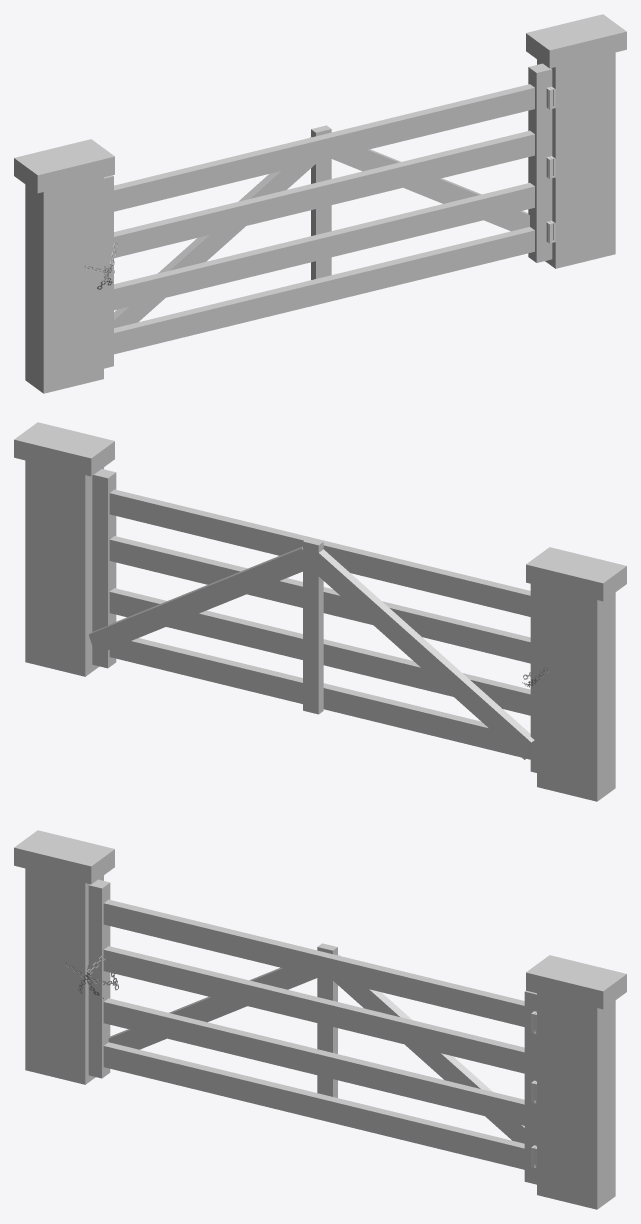
Rendered from Fence5.fbx.
The picture shows the model from 3 angles, top to bottom: view 1: azimuth 30°, elevation 25°; view 2: azimuth 150°, elevation 25°; view 3: azimuth 330°, elevation 25°; orthographic projection.
Parts seen in each view (by area): view 1: Plane.239, Plane.242, Plane.240; view 2: Plane.239, Plane.242, Plane.240; view 3: Plane.239, Plane.240, Plane.242.
Boxes of the visible parts, bbox=[...] form: Plane.239: bbox=[104, 63, 552, 368]; Plane.242: bbox=[14, 139, 114, 393]; Plane.240: bbox=[526, 14, 626, 268]; Plane.239: bbox=[89, 469, 536, 772]; Plane.242: bbox=[526, 547, 626, 801]; Plane.240: bbox=[14, 422, 114, 676]; Plane.239: bbox=[88, 879, 536, 1184]; Plane.240: bbox=[526, 955, 626, 1209]; Plane.242: bbox=[14, 830, 114, 1084].
Size of the model in its own units: 407 by 147 by 30.6.
